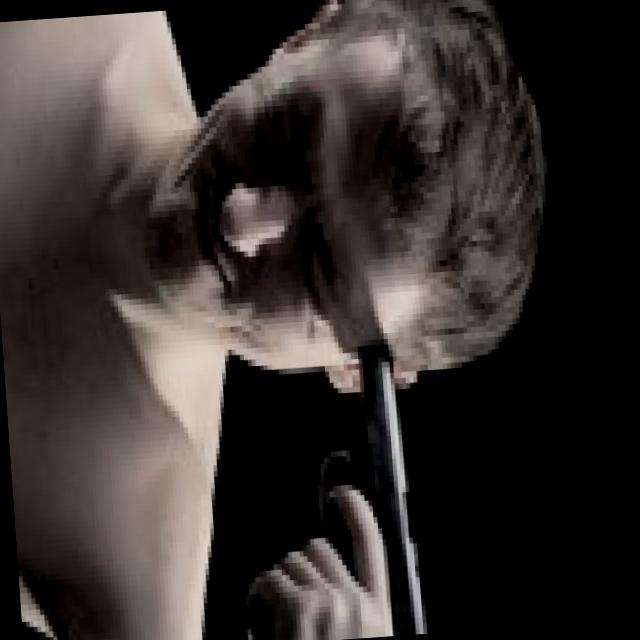handgun: (214, 320, 425, 636)
